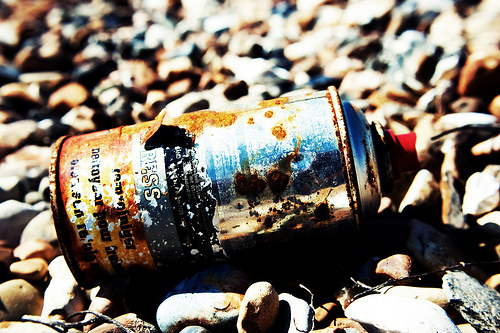litter: (50, 86, 383, 288)
